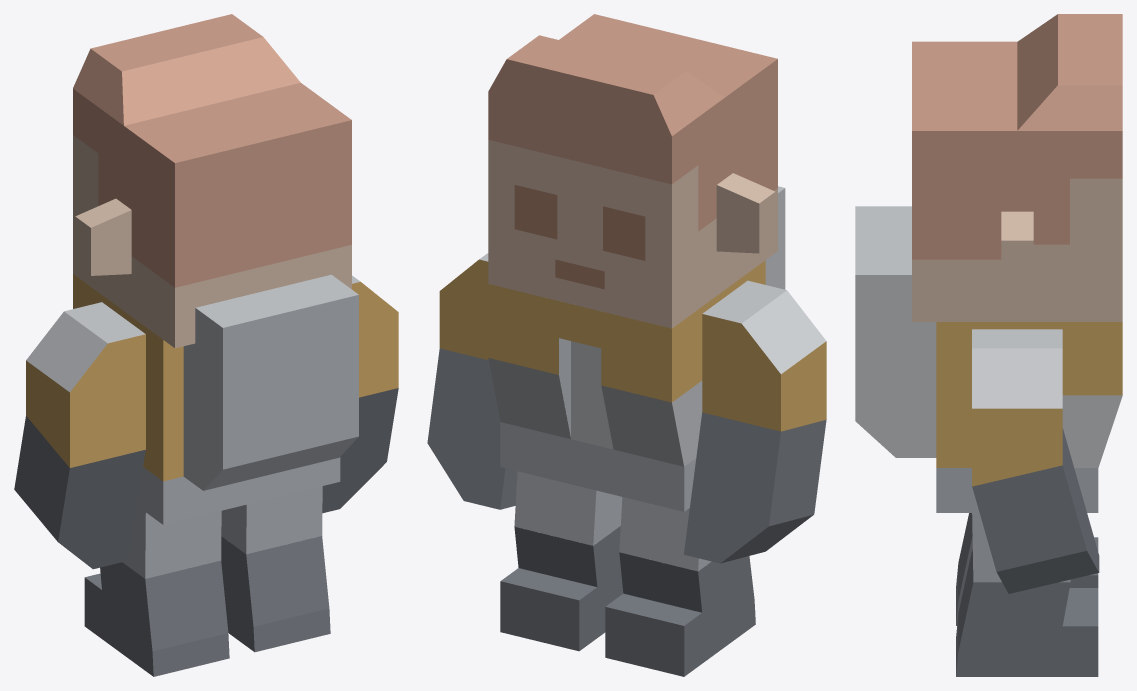
Rendered from astronautA.glb.
3 views of the same model, side by side, from view 1: azimuth 30°, elevation 25°; view 2: azimuth 150°, elevation 25°; view 3: azimuth 270°, elevation 25° (orthographic). The views are drawn at different scales.
Parts seen in each view (by area): view 1: armLeft, head, body; view 2: armLeft, head, body; view 3: armLeft, head, body.
Part boxes in pixels (left/top/right/bottom): armLeft: left=14, top=274, right=398, bottom=676; head: left=73, top=14, right=351, bottom=348; body: left=122, top=295, right=358, bottom=578; armLeft: left=427, top=186, right=826, bottom=676; head: left=488, top=14, right=777, bottom=328; body: left=500, top=338, right=711, bottom=571; armLeft: left=855, top=206, right=1122, bottom=676; head: left=912, top=14, right=1122, bottom=321; body: left=936, top=468, right=1098, bottom=582.
Bounding box in the file's own units: 0.4832 × 0.7932 × 0.33.
